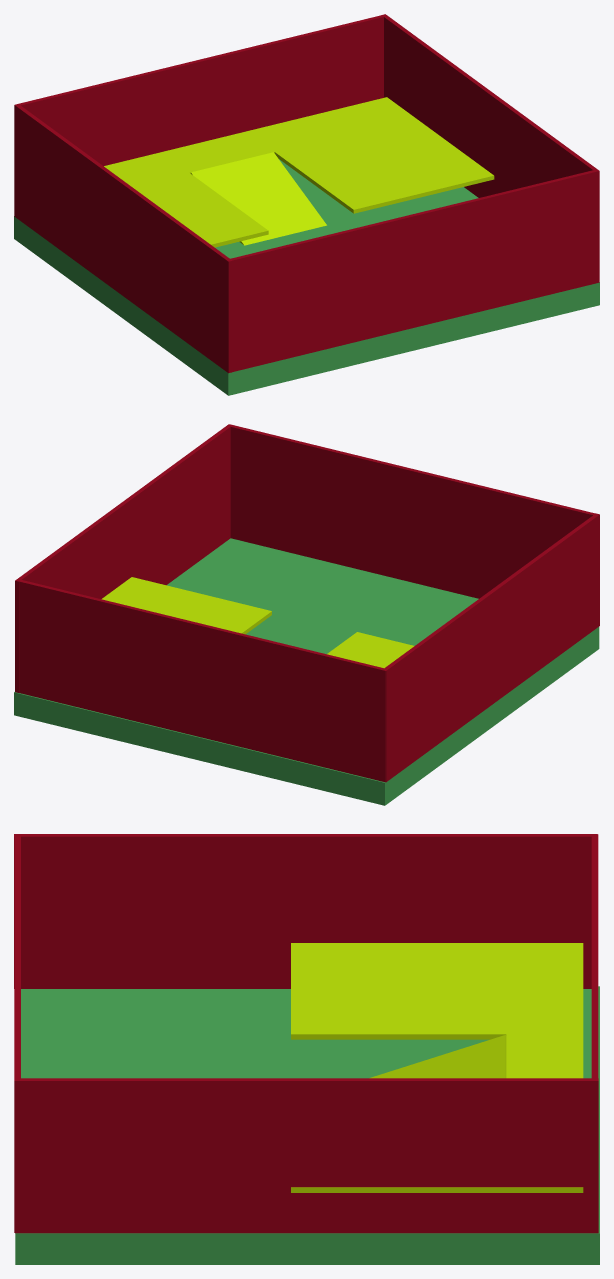
Rendered from testLevel.glb.
3 views of the same model, one above another, from view 1: azimuth 30°, elevation 25°; view 2: azimuth 150°, elevation 25°; view 3: azimuth 270°, elevation 25° (orthographic). The views are drawn at different scales.
Parts seen in each view (by area): view 1: Cube.003 -col, Cube.002 -col, Cube.001 -col, UpperFloor -col, Floor -col, Cube.004 -col, Ramp -col; view 2: Cube.002 -col, Cube.003 -col, Floor -col, Cube.001 -col, Cube.004 -col, UpperFloor -col; view 3: Cube.004 -col, Cube.001 -col, Floor -col, UpperFloor -col, Ramp -col, Cube.002 -col, Cube.003 -col.
Boxes of the visible parts, bbox=[...] form: Cube.003 -col: bbox=[228, 170, 599, 371]; Cube.002 -col: bbox=[15, 14, 386, 165]; Cube.001 -col: bbox=[14, 105, 232, 373]; UpperFloor -col: bbox=[104, 97, 494, 247]; Floor -col: bbox=[14, 159, 599, 395]; Cube.004 -col: bbox=[382, 14, 599, 281]; Ramp -col: bbox=[190, 152, 326, 245]; Cube.002 -col: bbox=[16, 579, 386, 782]; Cube.003 -col: bbox=[227, 424, 596, 598]; Floor -col: bbox=[14, 538, 599, 805]; Cube.001 -col: bbox=[382, 513, 599, 782]; Cube.004 -col: bbox=[15, 424, 231, 692]; UpperFloor -col: bbox=[101, 577, 414, 668]; Cube.004 -col: bbox=[15, 1078, 598, 1233]; Cube.001 -col: bbox=[14, 834, 597, 988]; Floor -col: bbox=[15, 986, 599, 1264]; UpperFloor -col: bbox=[291, 943, 583, 1192]; Ramp -col: bbox=[369, 1035, 506, 1078]; Cube.002 -col: bbox=[591, 834, 598, 1080]; Cube.003 -col: bbox=[14, 834, 20, 1232].
Bounding box in the file's own units: 33.85 × 11.71 × 33.88.
